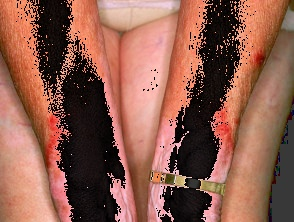vitiligo: (142, 17, 273, 222), (33, 4, 139, 222)
